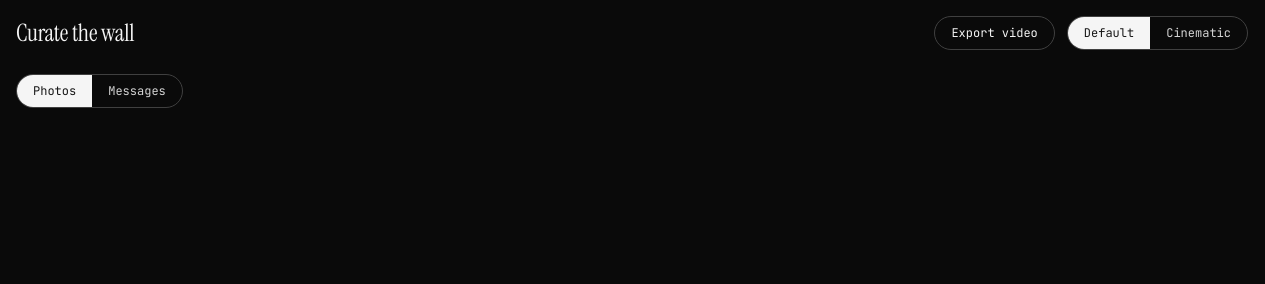
Test: AdminApp message curation › switching to the Messages tab lists standalone messages with a Hidden marker
The width and height of the screenshot is (1265, 284).
Click the button "messages".
click(137, 91)  # box x1=92 y1=75 x2=182 y2=107
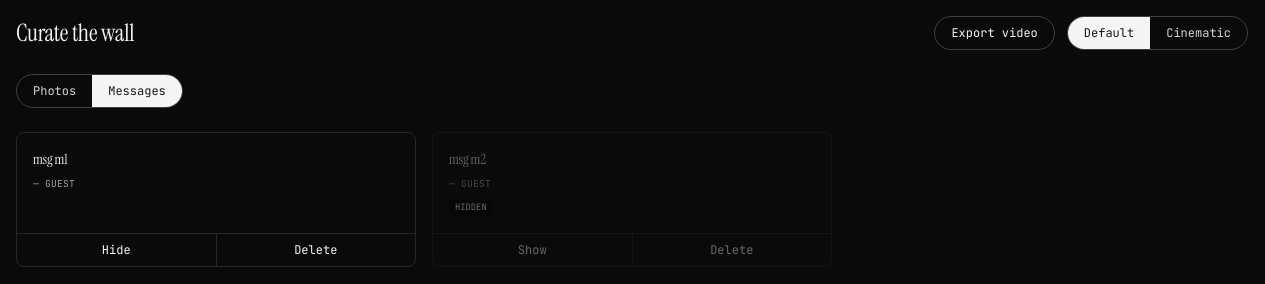
Check: the text "msg m1" is shown, box x1=33 y1=150 x2=68 y2=168
Check: the text "msg m2" is shown, box x1=449 y1=150 x2=486 y2=168
Check: the text "Hidden" is shown, box x1=449 y1=199 x2=493 y2=217
